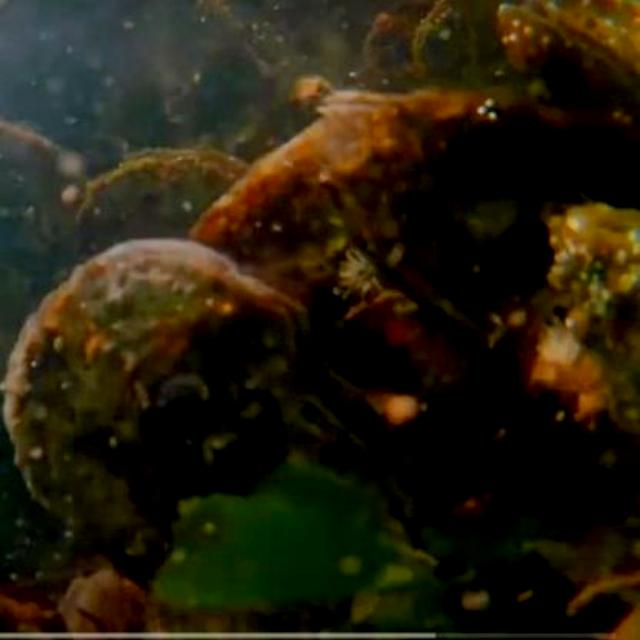Oyster-Closed: (0, 245, 450, 640), (306, 91, 580, 340), (76, 146, 255, 257), (497, 2, 640, 137), (57, 566, 153, 631)
